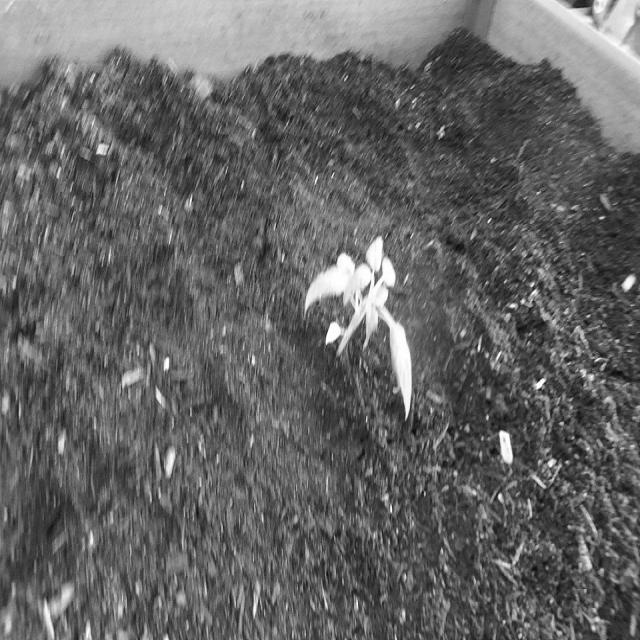Healthy: (302, 227, 418, 426)
